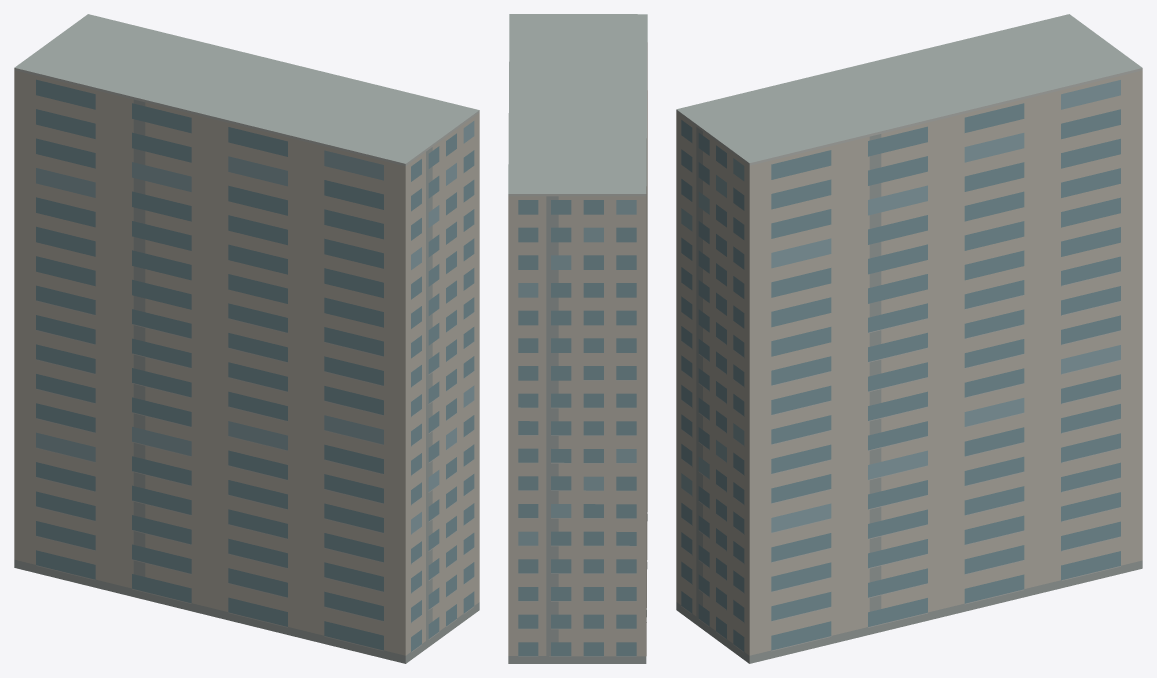
File: residential-cec439fa-fee5-4da5-bce9-0856c70290d0.glb
3 views of the same model, side by side, from view 1: azimuth 30°, elevation 25°; view 2: azimuth 150°, elevation 25°; view 3: azimuth 270°, elevation 25° (orthographic). The views are drawn at different scales.
Visible parts, largest first — view 1: residential-cec439fa-fee5-4da5-bce9-0856c70290d0.tmp; view 2: residential-cec439fa-fee5-4da5-bce9-0856c70290d0.tmp; view 3: residential-cec439fa-fee5-4da5-bce9-0856c70290d0.tmp.
Boxes of the visible parts, left/top/right/bottom form: residential-cec439fa-fee5-4da5-bce9-0856c70290d0.tmp: left=14, top=14, right=479, bottom=663; residential-cec439fa-fee5-4da5-bce9-0856c70290d0.tmp: left=508, top=14, right=647, bottom=663; residential-cec439fa-fee5-4da5-bce9-0856c70290d0.tmp: left=676, top=14, right=1142, bottom=663.
Bounding box in the file's own units: 31.34 × 49 × 41.39.
